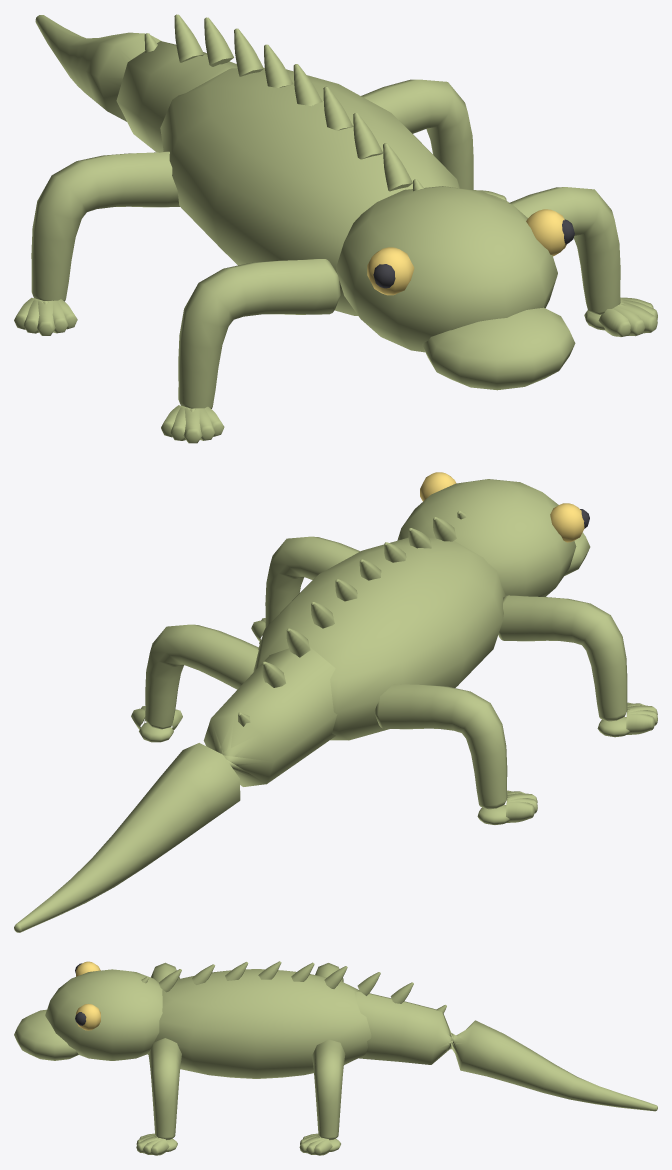
Rendered from reptiles-amphibians-and-minibeasts-komodo-dragon-9ed37a2d__22431.glb.
3 renders of one model, top to bottom at view 1: azimuth 30°, elevation 25°; view 2: azimuth 150°, elevation 25°; view 3: azimuth 270°, elevation 25°, orthographic. The views are drawn at different scales.
Parts seen in each view (by area): view 1: komodo-dragon; view 2: komodo-dragon; view 3: komodo-dragon.
Boxes of the visible parts, x1,y1,x2,y2 form: komodo-dragon: (14, 14, 657, 443); komodo-dragon: (14, 472, 657, 932); komodo-dragon: (14, 961, 657, 1155).
Bounding box in the file's own units: 1.22 × 0.5683 × 2.5.
